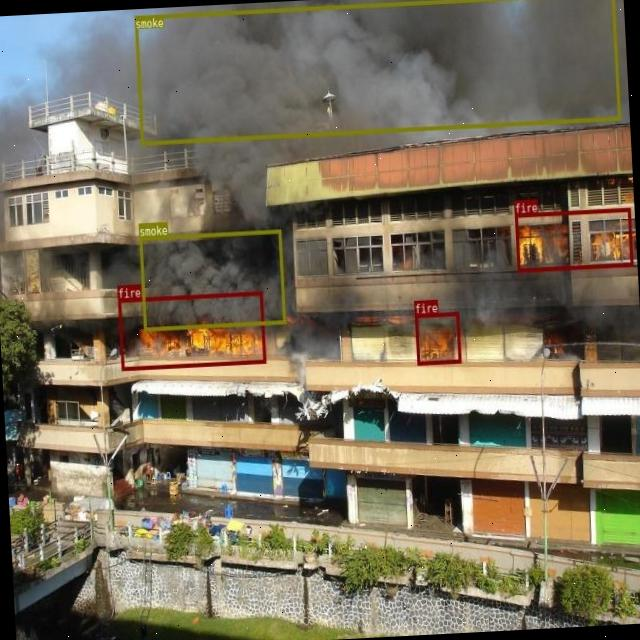fire: (118, 291, 266, 370), (514, 208, 634, 272), (414, 312, 460, 365)
smoke: (135, 0, 621, 145), (140, 230, 286, 331)
